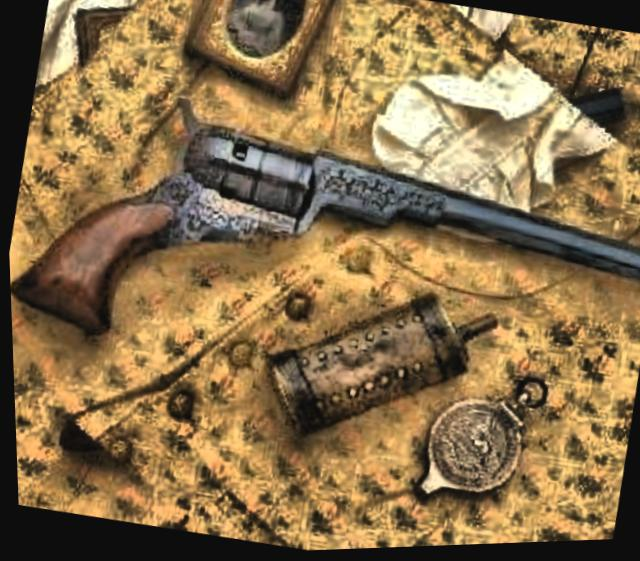pistol: (2, 54, 640, 438)
